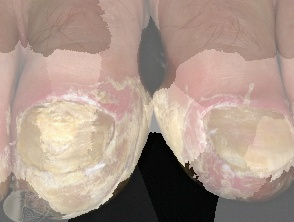Nail_psoriasis: (8, 68, 157, 222), (148, 78, 294, 204)
